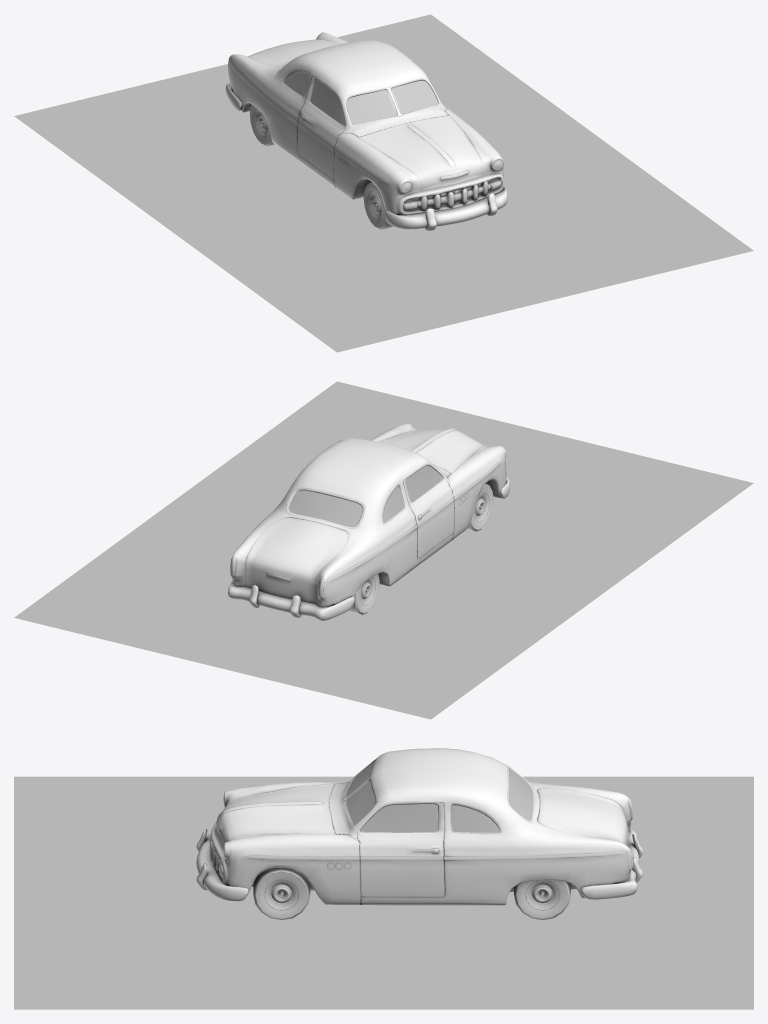
The model's file is oldcarnew_display.FBX.
3 views of the same model, one above another, from view 1: azimuth 30°, elevation 25°; view 2: azimuth 150°, elevation 25°; view 3: azimuth 270°, elevation 25° (orthographic). The views are drawn at different scales.
Parts seen in each view (by area): view 1: Plane001, oldcar_shell, Object001; view 2: Plane001, oldcar_shell, Object001; view 3: Plane001, oldcar_shell, Object001.
Boxes of the visible parts, box(x1,y1,x2,y2) form: Plane001: box(14, 14, 753, 352); oldcar_shell: box(225, 32, 507, 230); Object001: box(283, 72, 437, 125); Plane001: box(14, 381, 753, 719); oldcar_shell: box(228, 423, 510, 620); Object001: box(289, 465, 442, 526); Plane001: box(14, 776, 753, 1009); oldcar_shell: box(196, 748, 643, 920); Object001: box(346, 762, 531, 832).
Size of the model in its own units: 289 by 72.95 by 387.
